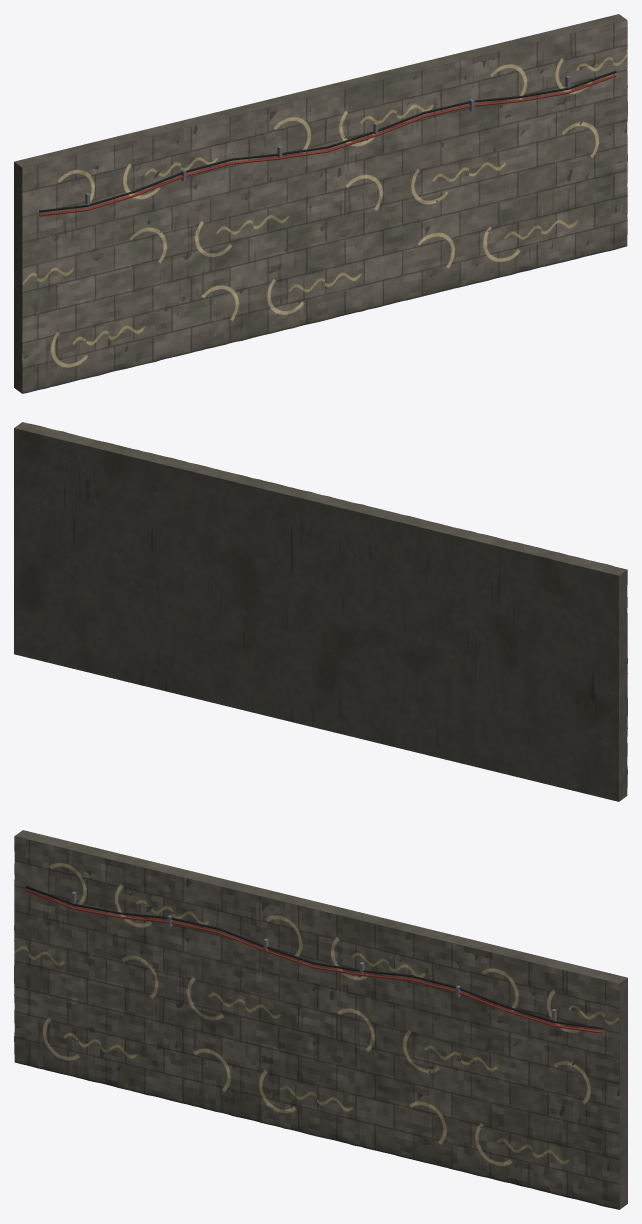
Rendered from bunker_wall.glb.
The picture shows the model from 3 angles, top to bottom: view 1: azimuth 30°, elevation 25°; view 2: azimuth 150°, elevation 25°; view 3: azimuth 330°, elevation 25°; orthographic projection.
Visible parts, largest first — view 1: BunkerWall; view 2: BunkerWall; view 3: BunkerWall.
Part boxes in pixels (box(x1,y1,x2,y2)): BunkerWall: box(14, 14, 627, 393); BunkerWall: box(14, 422, 627, 801); BunkerWall: box(14, 830, 627, 1209).
Size of the model in its own units: 12.6 by 4.5 by 0.45.
Materials: 1 (1 with a texture image).
